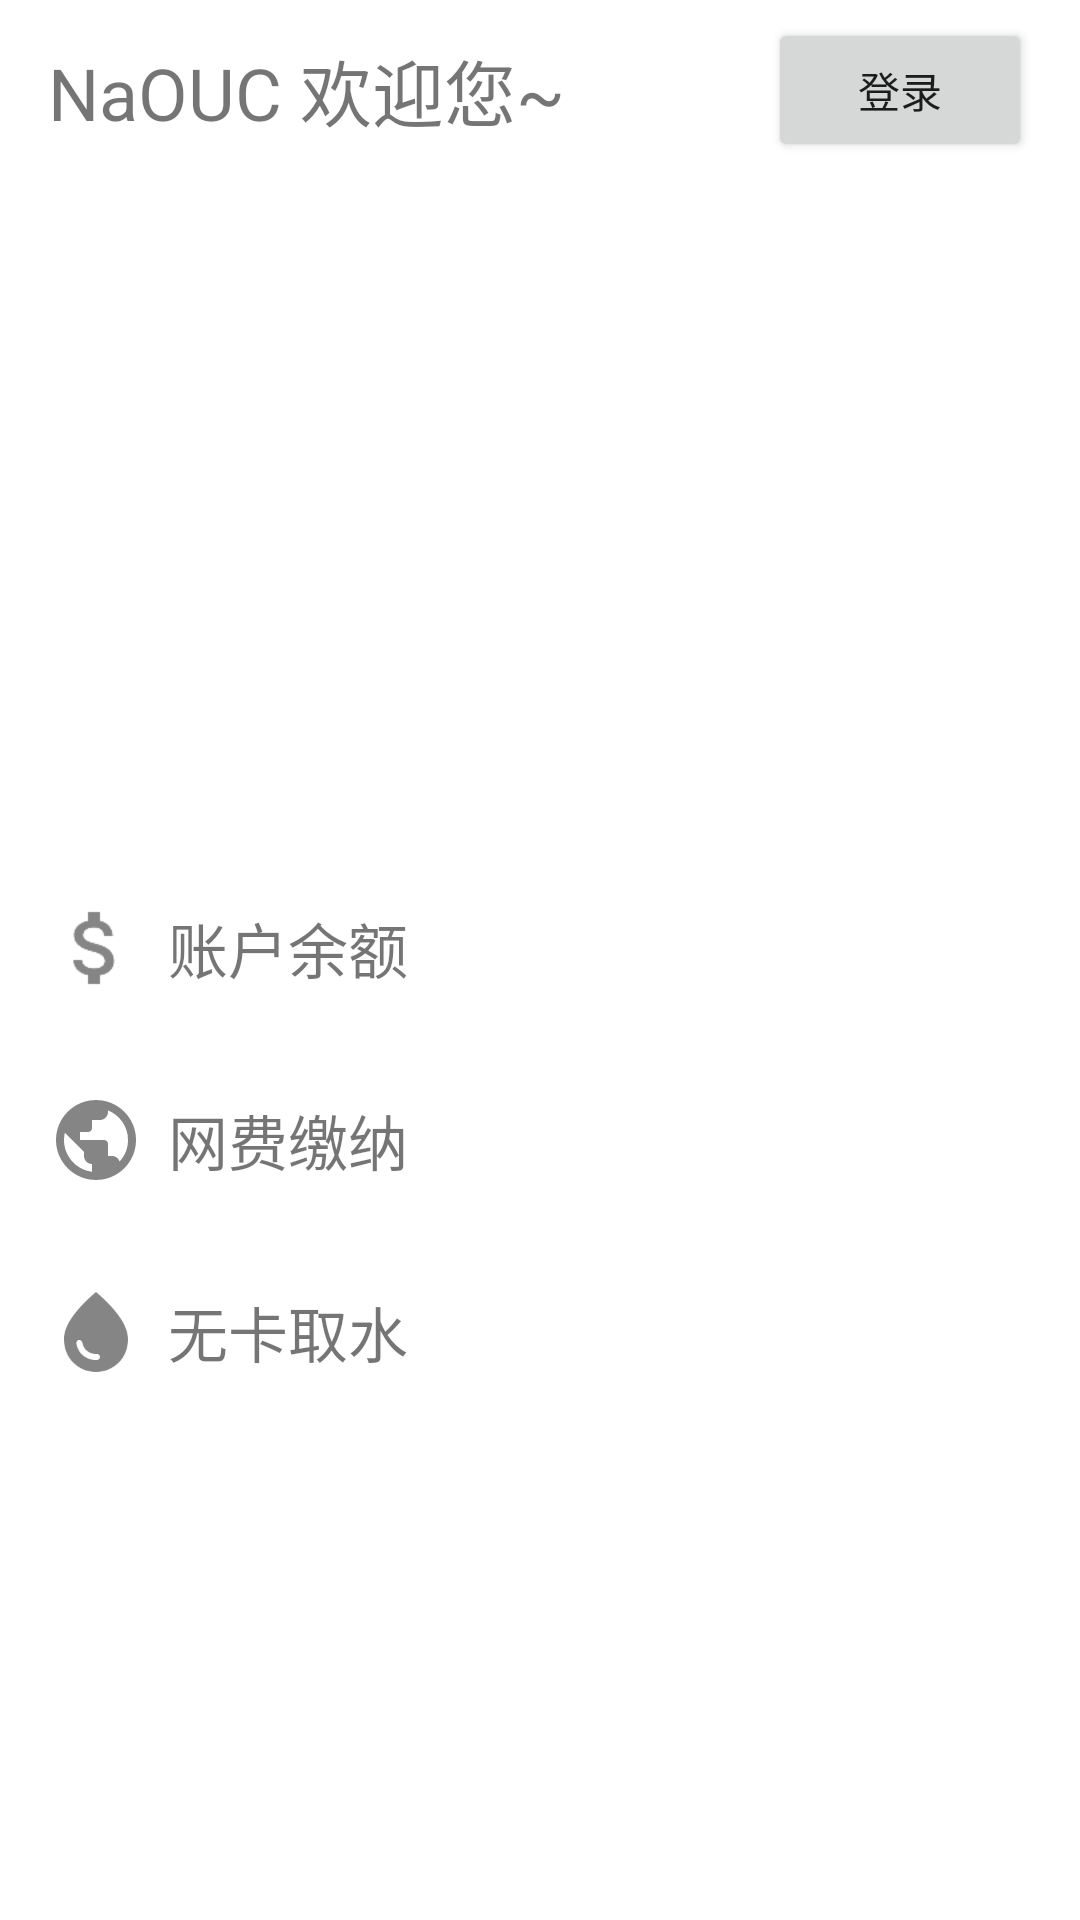

Where to tap for icons on this 1080px×1920px app screen, as (x,y):
money: (94,948)
public: (96,1140)
water: (96,1332)
